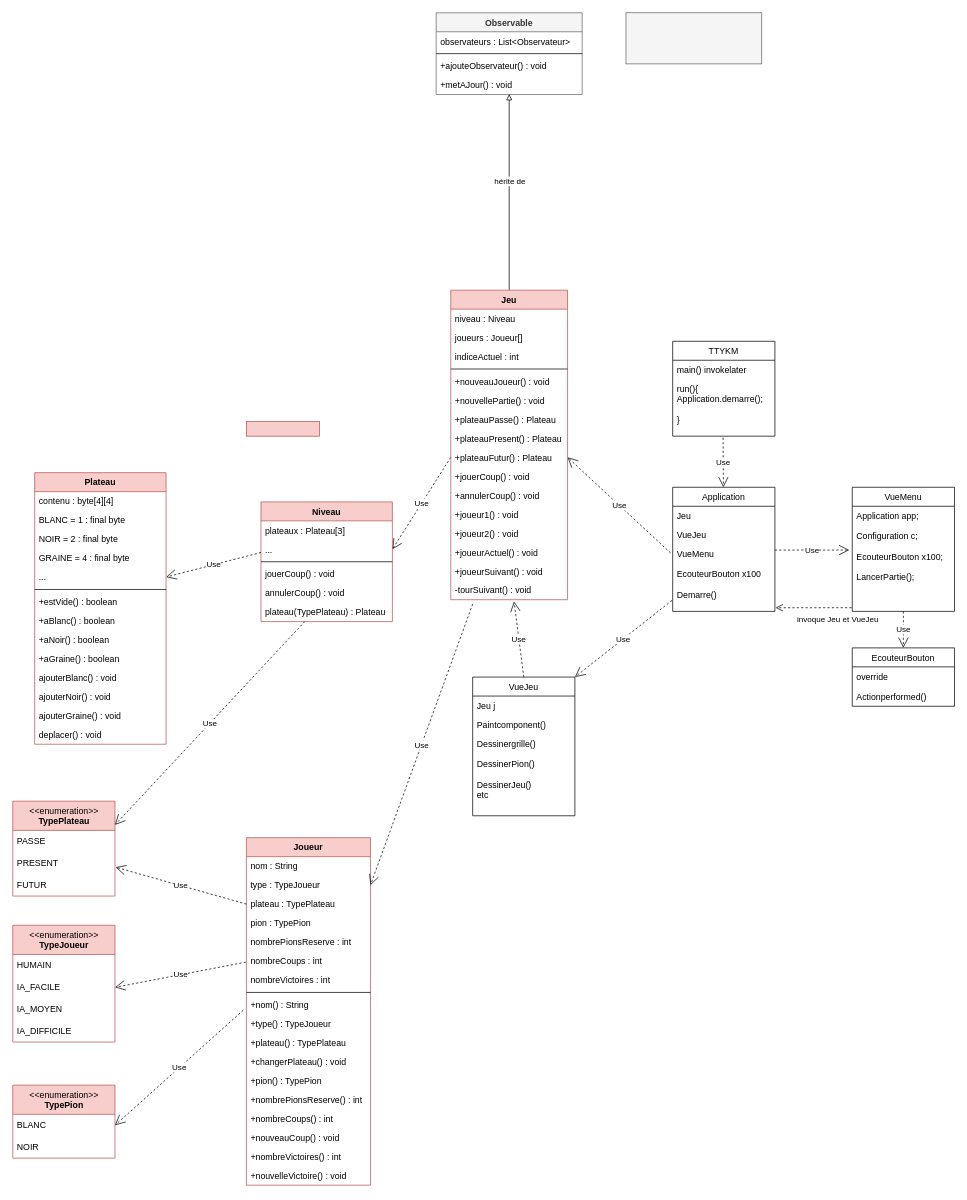
Image size: 967x1200. Some labels were removed from this diagram. The shapes that lost their labels are listed below. From the top down, each one's centre as x and y in pixels, then its label:
(x=693, y=38): <<Interface>> Observateur + miseAJour(): void
(x=282, y=428): Package Modele
